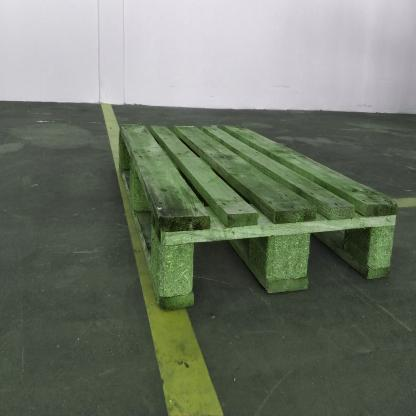BoxFace: (119, 122, 398, 310)
